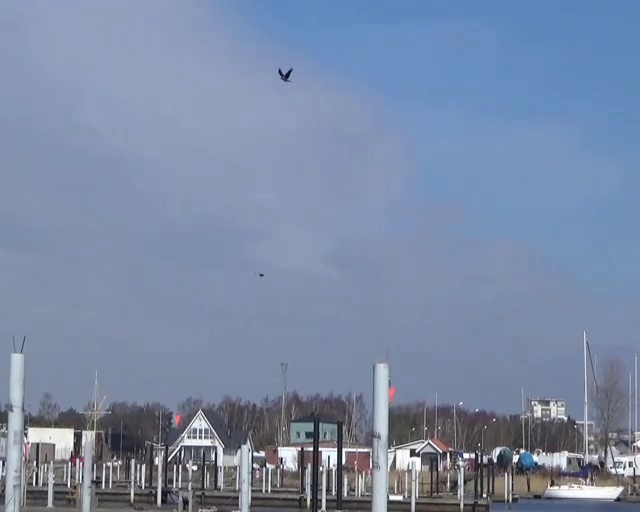BIRD: (278, 67, 293, 81)
